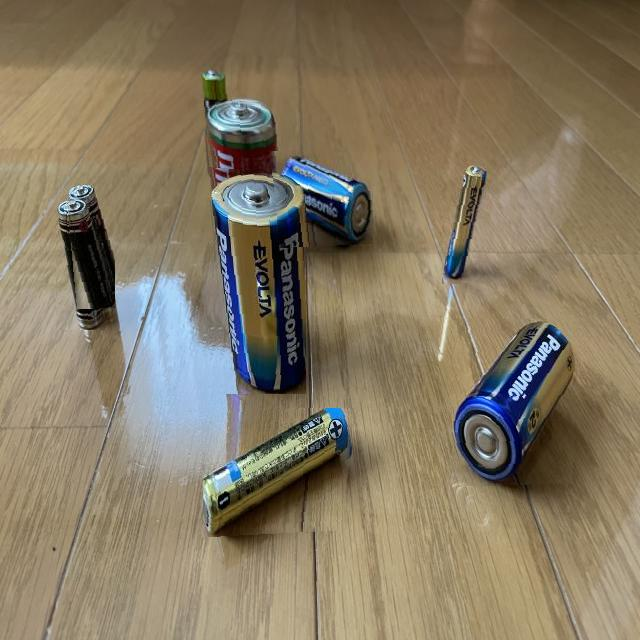battery: (206, 167, 306, 394), (452, 320, 580, 488), (203, 408, 355, 538), (270, 151, 373, 248), (205, 100, 282, 220), (56, 196, 108, 330), (65, 183, 115, 309), (442, 163, 490, 284), (198, 62, 232, 129)
